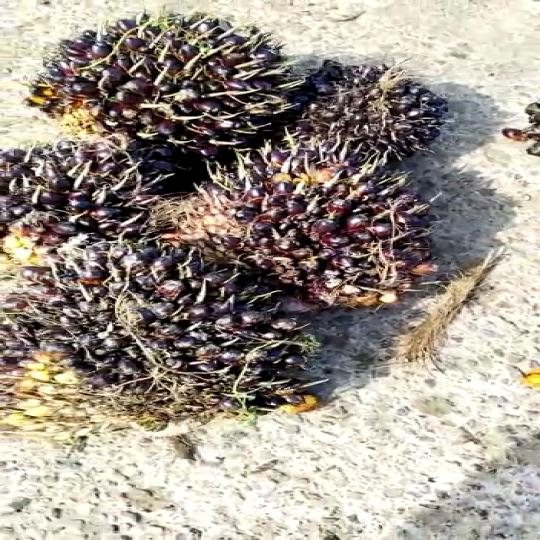kurang masak: (0, 0, 459, 447)
